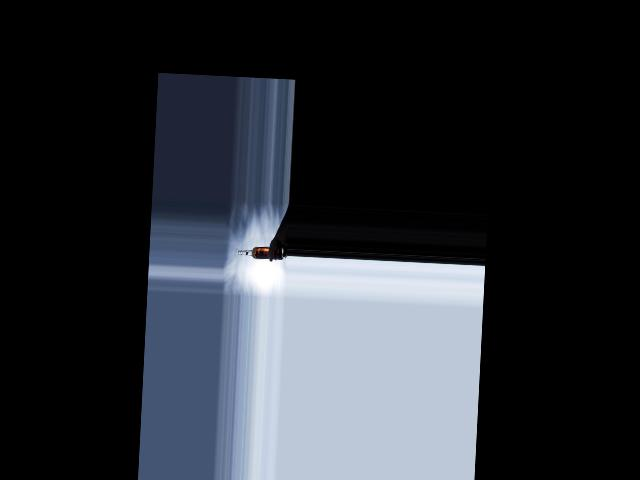beer: (238, 245, 283, 259)
